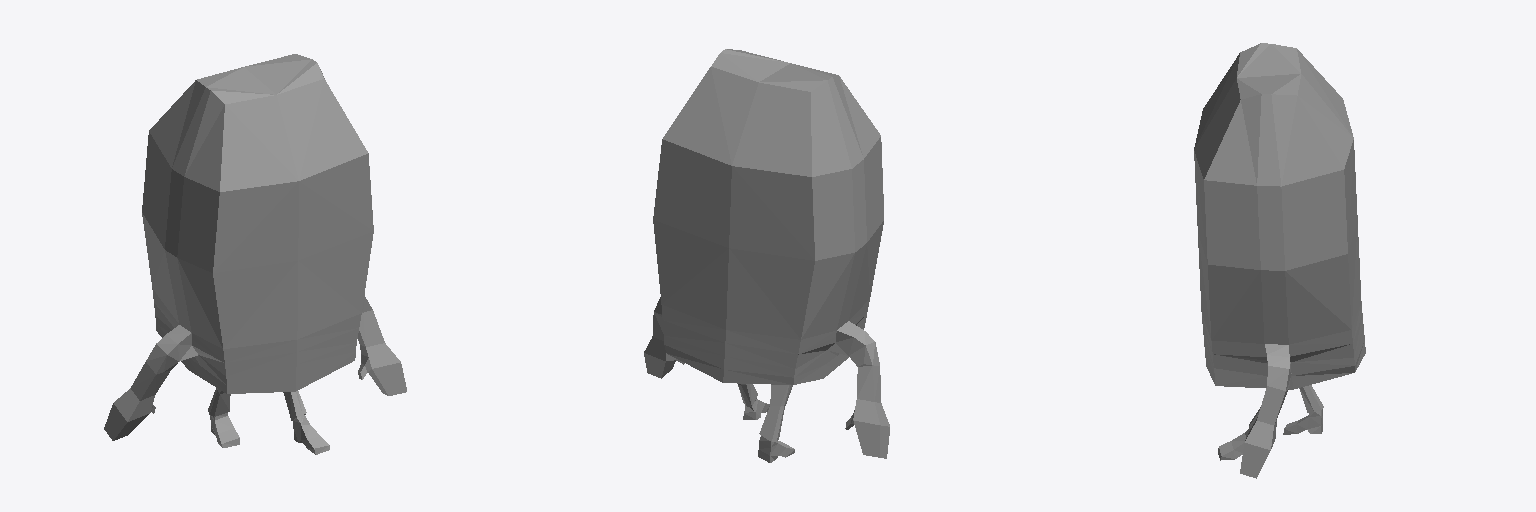
File: Scientist_v0.1.obj
The picture shows the model from 3 angles: view 1: azimuth 30°, elevation 25°; view 2: azimuth 150°, elevation 25°; view 3: azimuth 270°, elevation 25°; orthographic projection.
Visible parts, largest first — view 1: Cube; view 2: Cube; view 3: Cube.
Part boxes in pixels (x1,y1,x2,y2): Cube: (104,54,406,454); Cube: (644,49,889,462); Cube: (1194,43,1365,478).
Size of the model in its own units: 6.87 by 9.3 by 3.87.